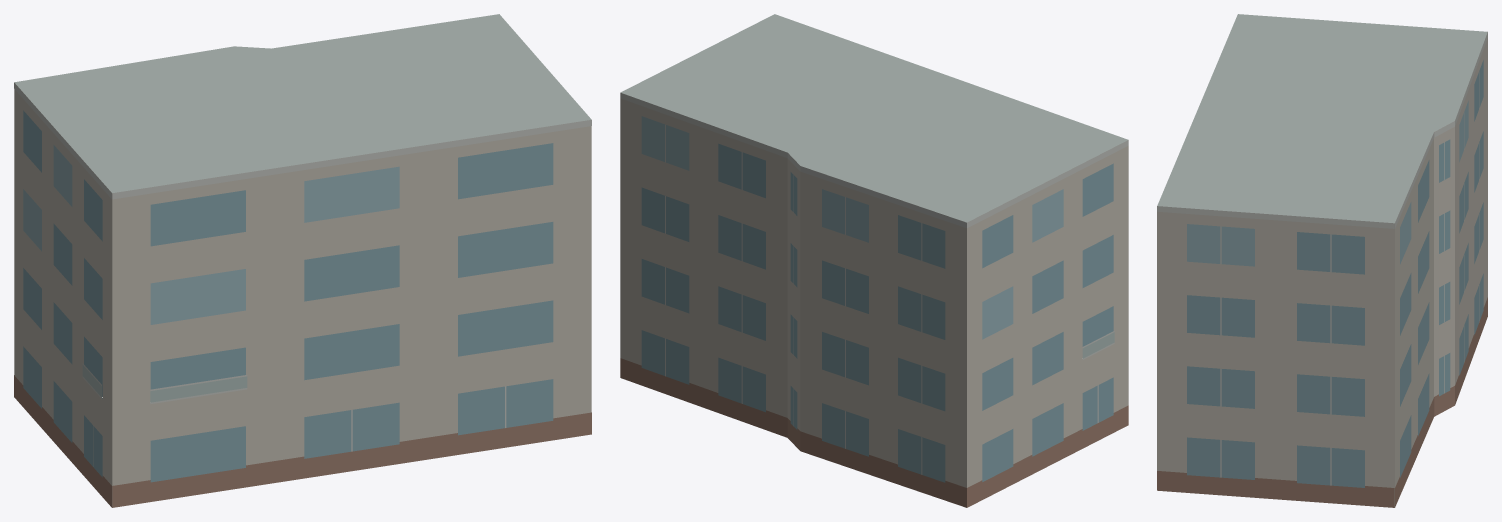
The model's file is survey-upis-32961129.glb.
3 views of the same model, side by side, from view 1: azimuth 30°, elevation 25°; view 2: azimuth 150°, elevation 25°; view 3: azimuth 270°, elevation 25° (orthographic). The views are drawn at different scales.
Parts seen in each view (by area): view 1: survey-upis-32961129.tmp; view 2: survey-upis-32961129.tmp; view 3: survey-upis-32961129.tmp.
Boxes of the visible parts, bbox=[...] form: survey-upis-32961129.tmp: bbox=[14, 14, 591, 507]; survey-upis-32961129.tmp: bbox=[620, 14, 1128, 507]; survey-upis-32961129.tmp: bbox=[1157, 14, 1487, 507].
Bounding box in the file's own units: 19.25 × 12.2 × 12.86.
